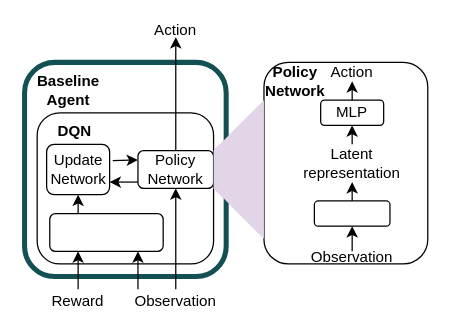
This 450x335 diagram has some shape labels left out. The centre of each missing label's shape, as x and y in pixels:
"Encoder" goes at point (351, 213).
"Stored transition tuples" goes at point (106, 231).
